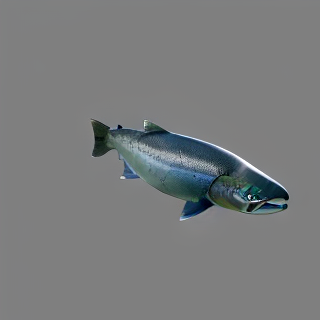Chinook salmon: (87, 114, 291, 227)
